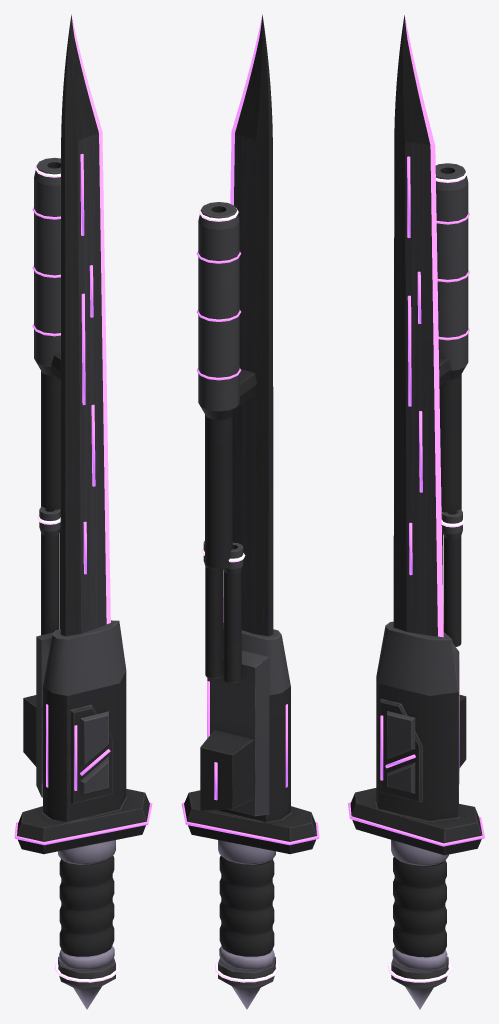
3 renders of one model, left to right at view 1: azimuth 30°, elevation 25°; view 2: azimuth 150°, elevation 25°; view 3: azimuth 330°, elevation 25°, orthographic.
Visible parts, largest first — view 1: kat_dark_carbon, kat_plate_carbon, kat_shin_carbon, kat_blade_carbon, glow_kat_line_violet, glow_kat_edge_violet, kat_pale_carbon, glow_kat_rim_violet; view 2: kat_dark_carbon, kat_plate_carbon, kat_shin_carbon, kat_blade_carbon, kat_pale_carbon, glow_kat_line_violet, glow_kat_edge_violet, glow_kat_rim_violet; view 3: kat_dark_carbon, kat_plate_carbon, kat_blade_carbon, kat_shin_carbon, glow_kat_edge_violet, glow_kat_line_violet, kat_pale_carbon, glow_kat_rim_violet.
Boxes of the visible parts, x1,y1,x2,y2 form: kat_dark_carbon: (17,162,149,956); kat_plate_carbon: (34,157,126,990); kat_shin_carbon: (60,14,98,636); kat_blade_carbon: (78,133,106,633); glow_kat_line_violet: (14,153,152,845); glow_kat_edge_violet: (71,15,110,624); kat_pale_carbon: (58,840,115,1009); glow_kat_rim_violet: (35,163,119,982); kat_dark_carbon: (184,206,316,956); kat_plate_carbon: (198,202,290,990); kat_shin_carbon: (235,14,273,636); kat_blade_carbon: (232,133,255,633); kat_pale_carbon: (218,840,275,1009); glow_kat_line_violet: (181,251,319,845); glow_kat_edge_violet: (223,15,262,622); glow_kat_rim_violet: (199,208,278,982); kat_dark_carbon: (350,167,482,957); kat_plate_carbon: (376,163,468,990); kat_blade_carbon: (405,141,437,636); kat_shin_carbon: (393,15,430,631); glow_kat_edge_violet: (404,15,443,637); glow_kat_line_violet: (348,156,484,846); kat_pale_carbon: (391,839,448,1009); glow_kat_rim_violet: (388,169,467,982).
Bounding box in the file's own units: 0.0981 × 0.679 × 0.0744.
Materials: 8 (5 with a texture image).
